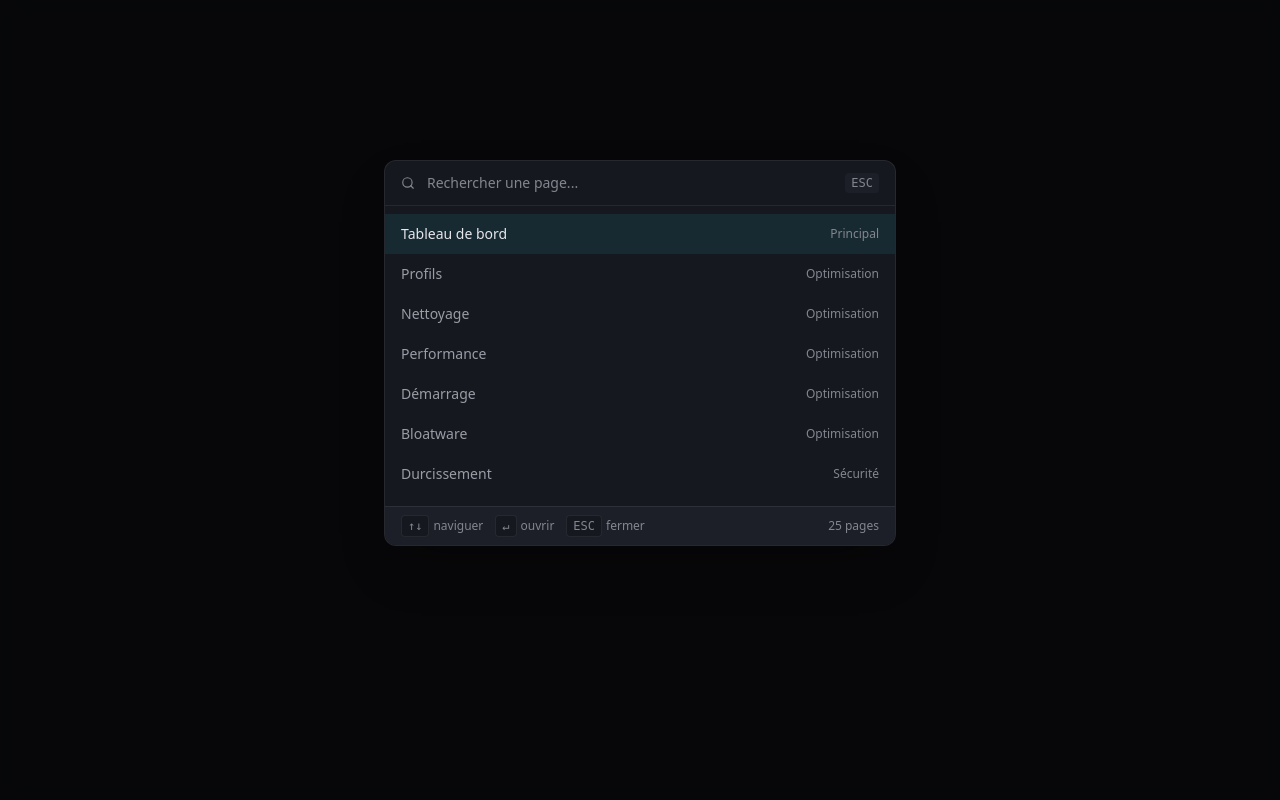
Test: CommandPalette recherche › trouve À propos avec « a propos » (majuscule et accent ignorés)
Type "a propos" into the dropdown labelled "Rechercher une page". click: (630, 183)
box: [427,173,833,193]
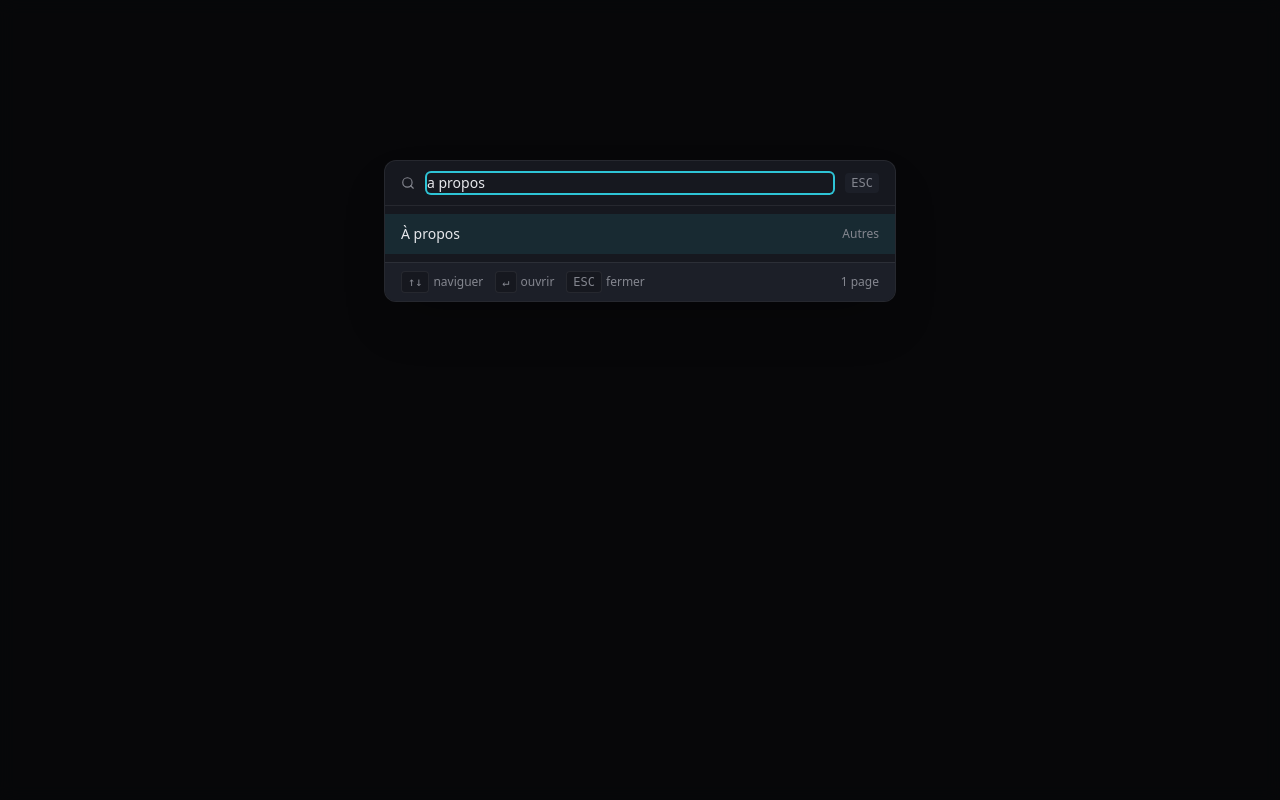
Now the option "À propos Autres" is shown, box [385,214,895,254]
